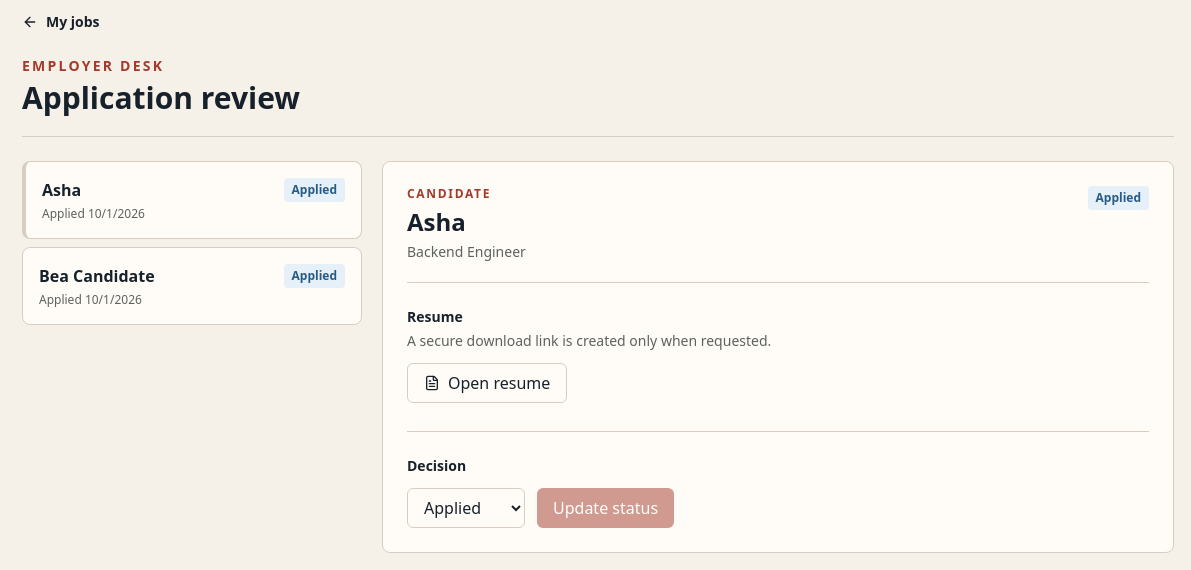
Test: ApplicationReviewPage › resets the status selection when a different candidate is opened
Expected: the 1st heading "Asha" is shown, [42, 179, 81, 201]
Select "Reviewed" in the dropdown named "Application status" at (466, 508), box [407, 488, 525, 528]
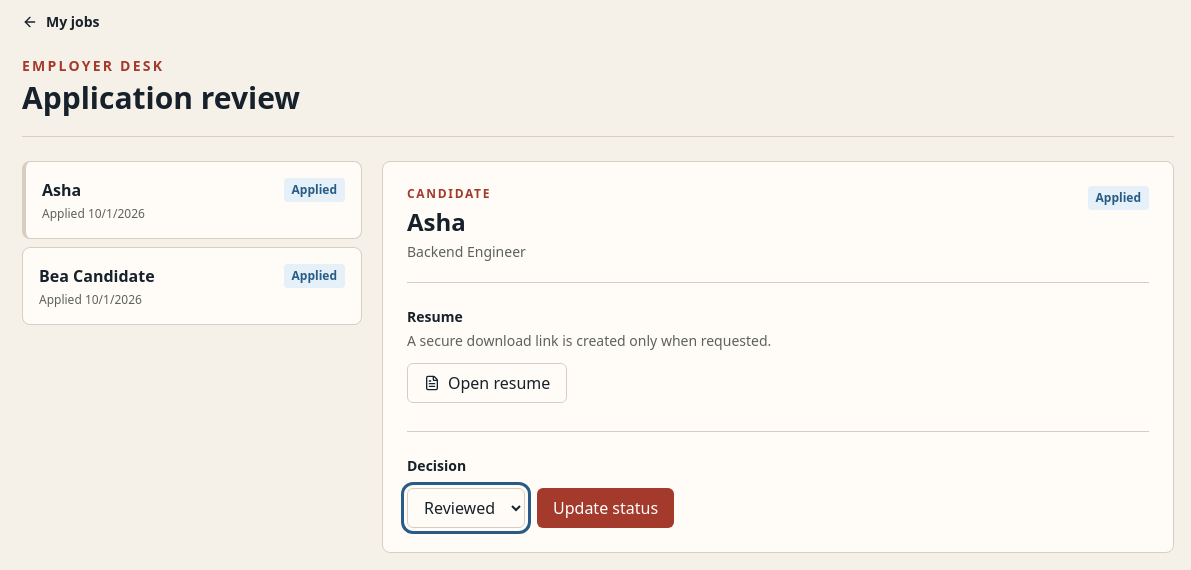
Click the link "Bea Candidate Applied 10/1/2026 Applied" at (192, 286), box [22, 247, 362, 325]
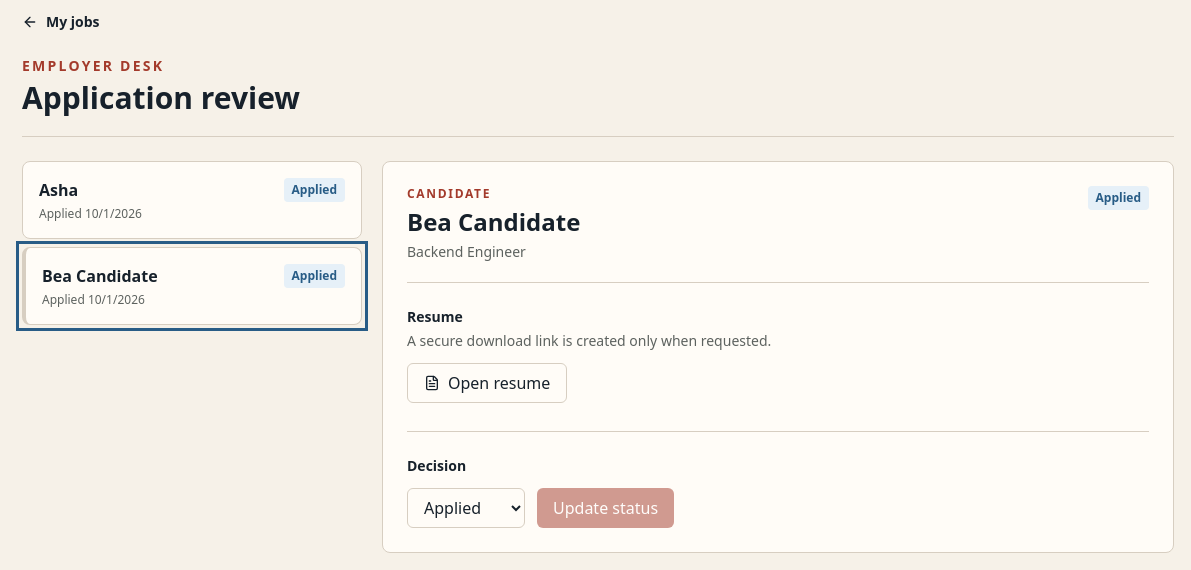
Expected: the heading "Bea Candidate" below "Asha" is shown, [42, 264, 158, 288]
Expected: the dropdown named "Application status" shows "Applied", [407, 488, 525, 528]
